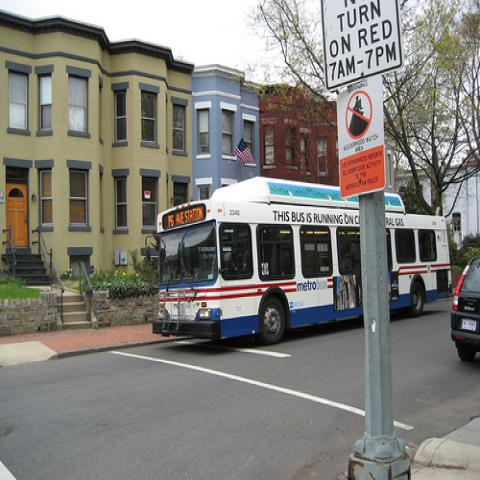bus: (147, 200, 456, 348)
car: (448, 256, 479, 365)
